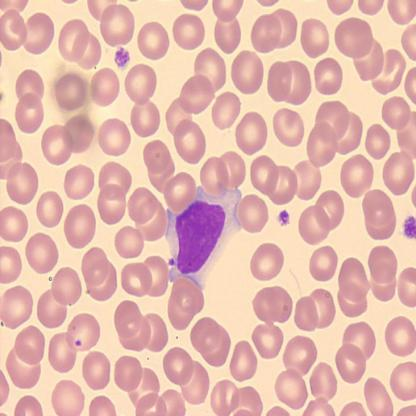Atypical lymphocyte: (169, 186, 240, 280)
